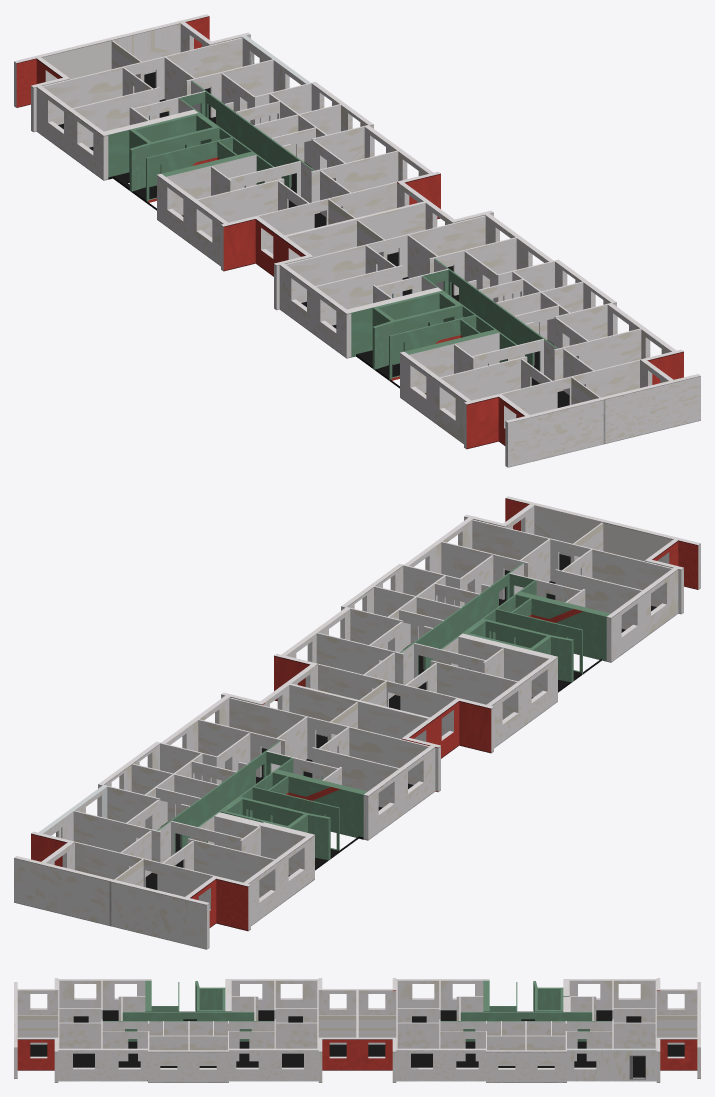
File: Floor_1.fbx
3 views of the same model, one above another, from view 1: azimuth 30°, elevation 25°; view 2: azimuth 150°, elevation 25°; view 3: azimuth 270°, elevation 25° (orthographic). The views are drawn at different scales.
Parts seen in each view (by area): view 1: Walls_inside_3_rooms_L.096, Walls_inside_3_rooms_R.101, Wall_side_north.020, Wall_side_south.020, Walls_inside_3_rooms_L.104, Wall_separator.010, Walls_inside_3_rooms_R.068, Wall_kitchen_north_1.014, Wall_kitchen_north_2.026, Wall_side_north.019, Wall_kitchen_north_1.015, Wall_kitchen_north_2.025 (+50 smaller); view 2: Walls_inside_3_rooms_L.104, Walls_inside_3_rooms_R.068, Wall_side_north.019, Wall_side_south.019, Walls_inside_3_rooms_L.096, Wall_separator.010, Walls_inside_3_rooms_R.101, Wall_kitchen_north_1.015, Wall_kitchen_north_2.025, Wall_side_north.020, Wall_kitchen_north_1.014, Wall_kitchen_north_2.026 (+51 smaller); view 3: Wall_rooms_south_1.003, Wall_rooms_south_2.016, Wall_rooms_south_1.023, Wall_rooms_south_2.017, Floor.020, Floor.019, Wall_kitchen_south.019, Wall_kitchen_south.020, Wall_kitchen_north_1.014, Wall_kitchen_north_1.015, Wall_kitchen_north_2.025, Wall_kitchen_north_2.026 (+51 smaller).
Boxes of the visible parts, <box> form: Walls_inside_3_rooms_L.096: <box>42,37,242,124</box>; Walls_inside_3_rooms_R.101: <box>285,215,485,302</box>; Wall_side_north.020: <box>505,397,604,467</box>; Wall_side_south.020: <box>602,374,700,443</box>; Walls_inside_3_rooms_L.104: <box>501,359,639,419</box>; Wall_separator.010: <box>285,201,425,258</box>; Walls_inside_3_rooms_R.068: <box>239,176,419,253</box>; Wall_kitchen_north_1.014: <box>36,86,108,180</box>; Wall_kitchen_north_2.026: <box>279,263,351,358</box>; Wall_side_north.019: <box>14,37,112,107</box>; Wall_kitchen_north_1.015: <box>400,351,471,443</box>; Wall_kitchen_north_2.025: <box>157,173,228,266</box>; Walls_inside_3_rooms_L.104: <box>472,519,672,606</box>; Walls_inside_3_rooms_R.068: <box>229,697,429,784</box>; Wall_side_north.019: <box>110,879,209,949</box>; Wall_side_south.019: <box>14,856,112,925</box>; Walls_inside_3_rooms_L.096: <box>75,841,213,901</box>; Wall_separator.010: <box>289,683,429,740</box>; Walls_inside_3_rooms_R.101: <box>295,658,475,735</box>; Wall_kitchen_north_1.015: <box>606,568,678,662</box>; Wall_kitchen_north_2.025: <box>363,745,435,840</box>; Wall_side_north.020: <box>602,519,700,589</box>; Wall_kitchen_north_1.014: <box>243,833,314,925</box>; Wall_kitchen_north_2.026: <box>486,655,557,748</box>; Wall_rooms_south_1.003: <box>567,1048,656,1081</box>; Wall_rooms_south_2.016: <box>396,1048,485,1081</box>; Wall_rooms_south_1.023: <box>58,1048,147,1081</box>; Wall_rooms_south_2.017: <box>229,1048,318,1081</box>; Floor.020: <box>30,1010,346,1080</box>; Floor.019: <box>368,1010,684,1077</box>; Wall_kitchen_south.019: <box>486,1050,566,1082</box>; Wall_kitchen_south.020: <box>148,1050,228,1082</box>; Wall_kitchen_north_1.014: <box>563,979,656,1010</box>; Wall_kitchen_north_1.015: <box>58,979,151,1010</box>; Wall_kitchen_north_2.025: <box>396,979,489,1010</box>; Wall_kitchen_north_2.026: <box>225,979,318,1010</box>.
Bounding box in the file's own units: 1420 × 289 × 5588.
